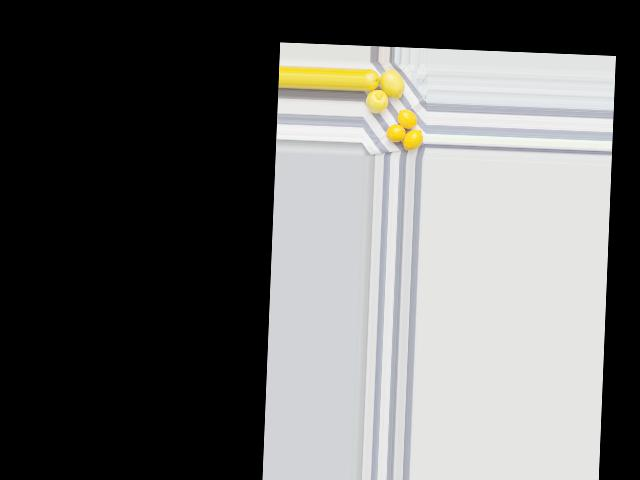lemon: (402, 128, 423, 151)
